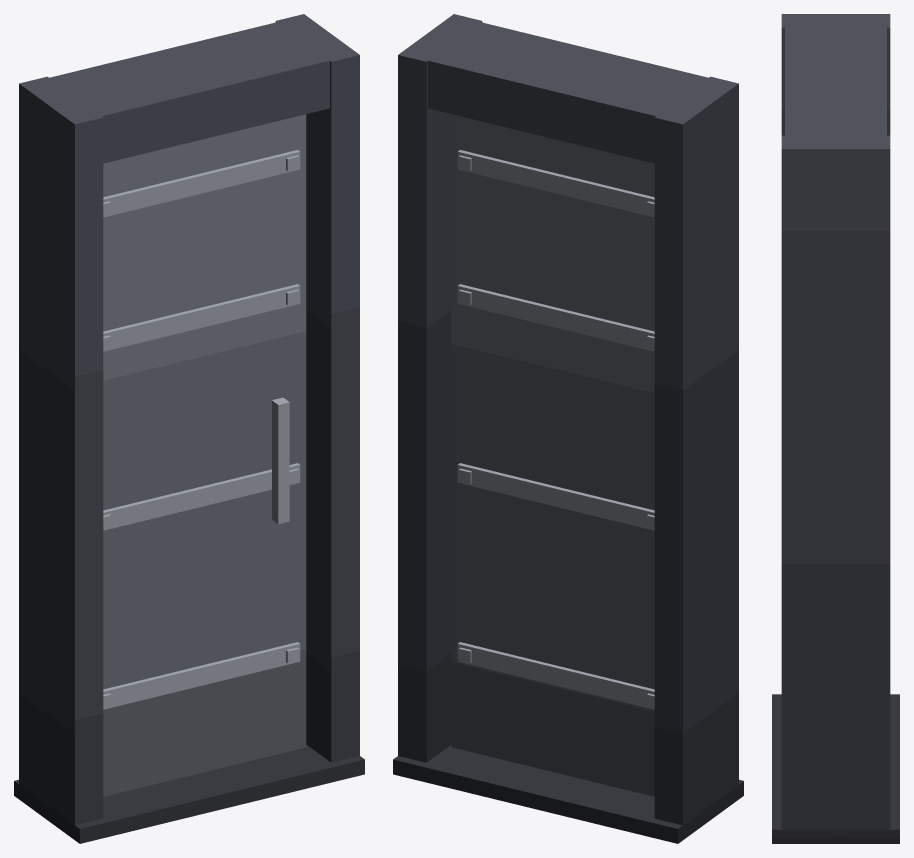
The model's file is model_46_iron.glb.
3 renders of one model, left to right at view 1: azimuth 30°, elevation 25°; view 2: azimuth 150°, elevation 25°; view 3: azimuth 270°, elevation 25°, orthographic. The views are drawn at different scales.
Bounding box in the file's own units: 1 × 2.4 × 0.4.
Materials: 1 (1 with a texture image).
